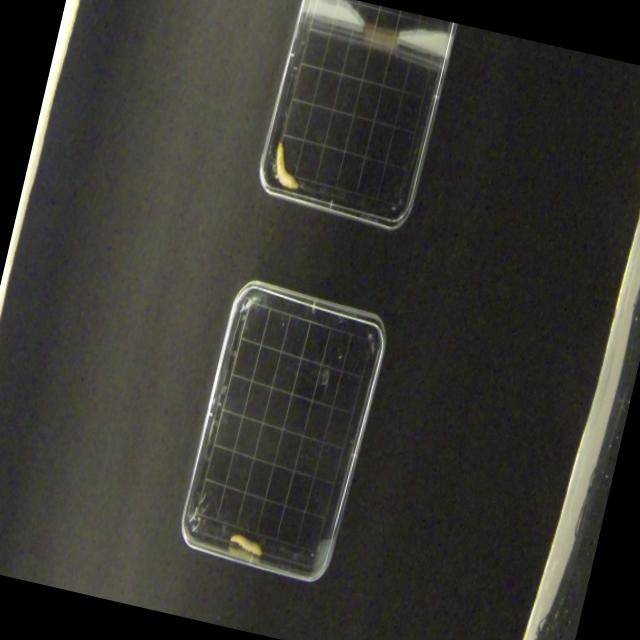larva: (267, 139, 308, 191), (224, 521, 272, 563)
